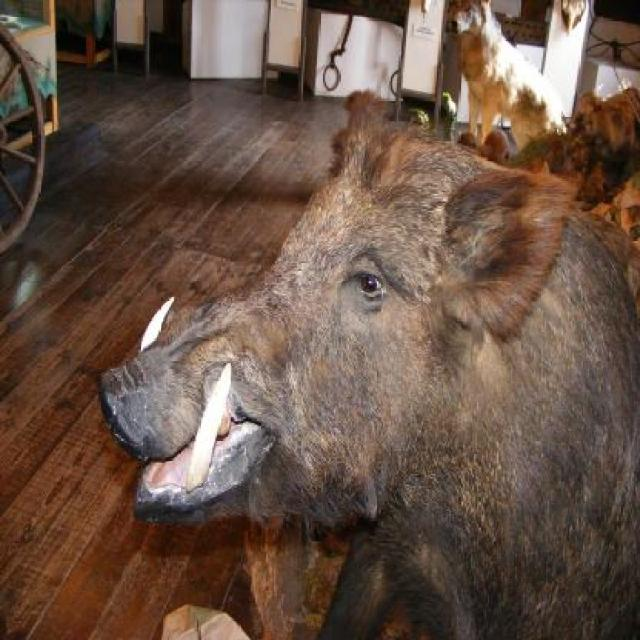wildboar: (95, 91, 640, 640)
